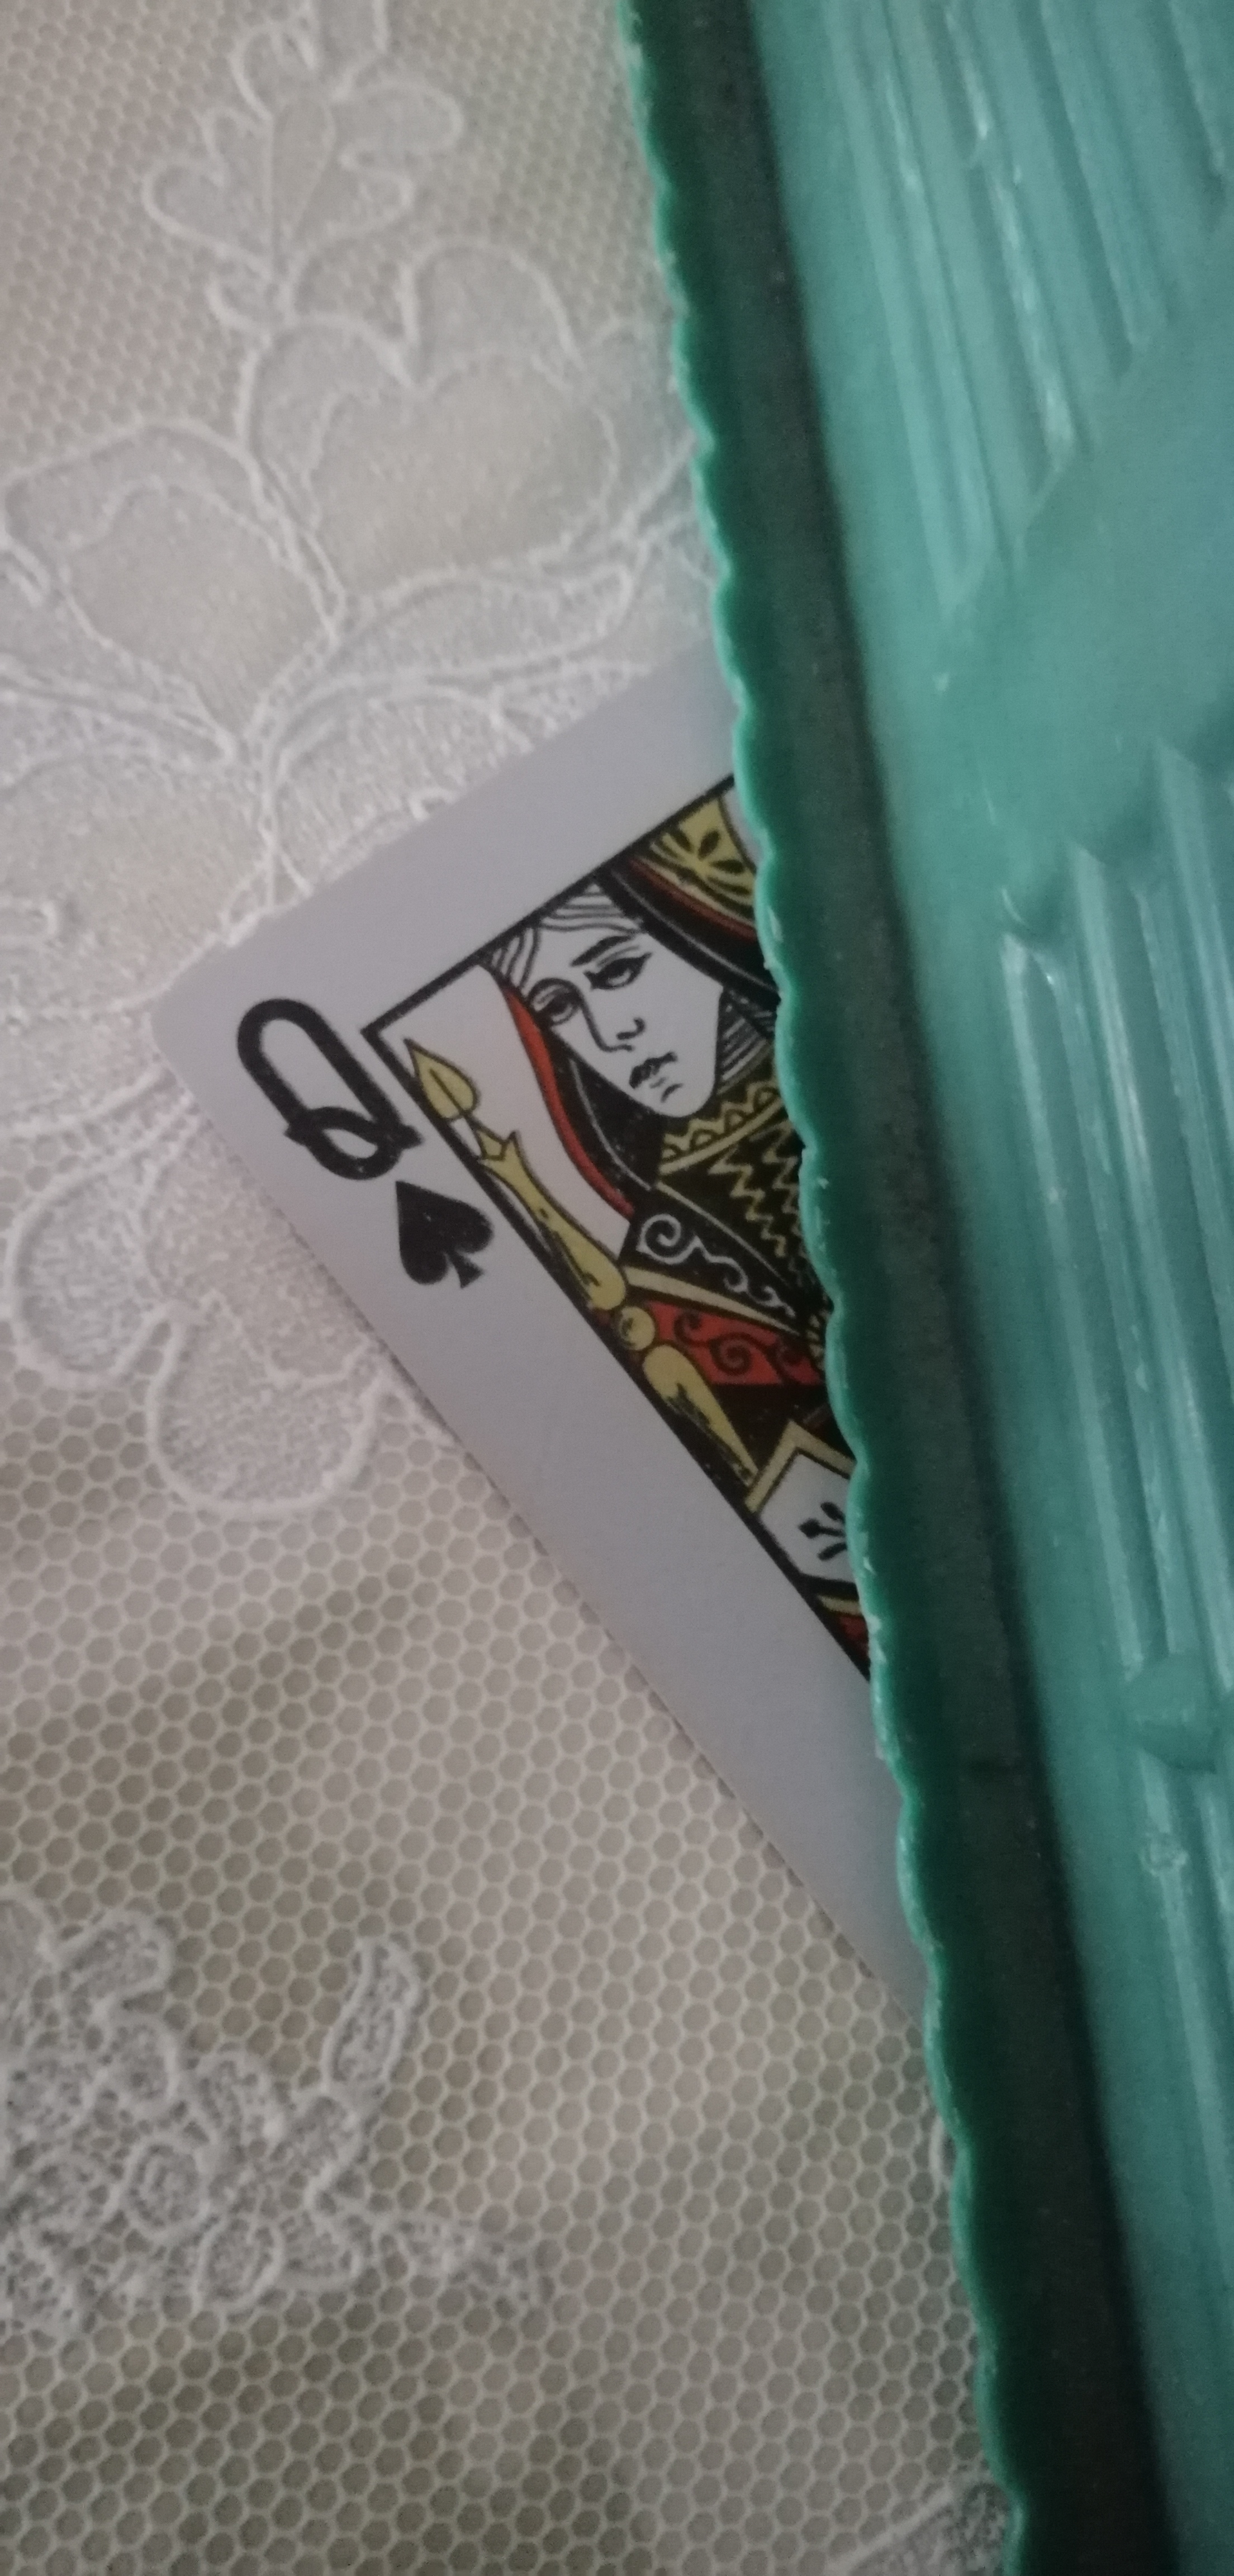queen: (168, 593, 907, 2026)
